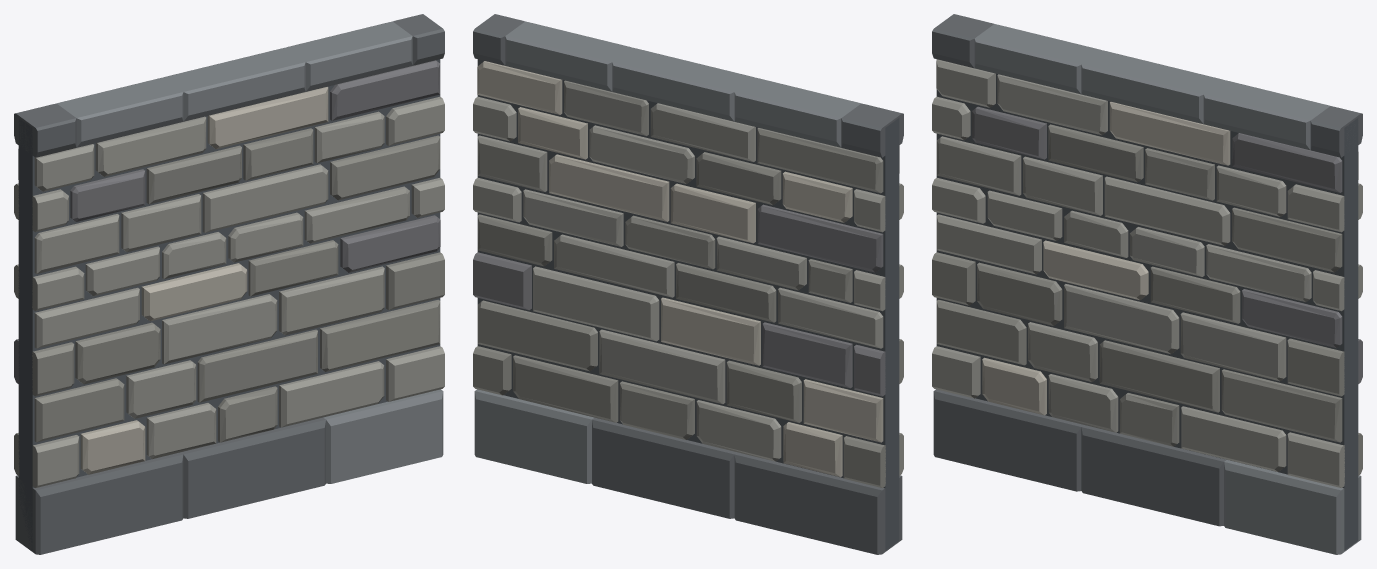
Rendered from SM_LPD_Struct_WallAshlar_01.fbx.
3 renders of one model, left to right at view 1: azimuth 30°, elevation 25°; view 2: azimuth 150°, elevation 25°; view 3: azimuth 330°, elevation 25°, orthographic.
Parts seen in each view (by area): view 1: SM_LPD_Struct_WallAshlar_01; view 2: SM_LPD_Struct_WallAshlar_01; view 3: SM_LPD_Struct_WallAshlar_01.
Boxes of the visible parts, x1=… form: SM_LPD_Struct_WallAshlar_01: x1=14, y1=14, x2=444, y2=554; SM_LPD_Struct_WallAshlar_01: x1=473, y1=14, x2=903, y2=554; SM_LPD_Struct_WallAshlar_01: x1=932, y1=14, x2=1362, y2=554.
Size of the model in its own units: 4 by 4 by 0.4.
